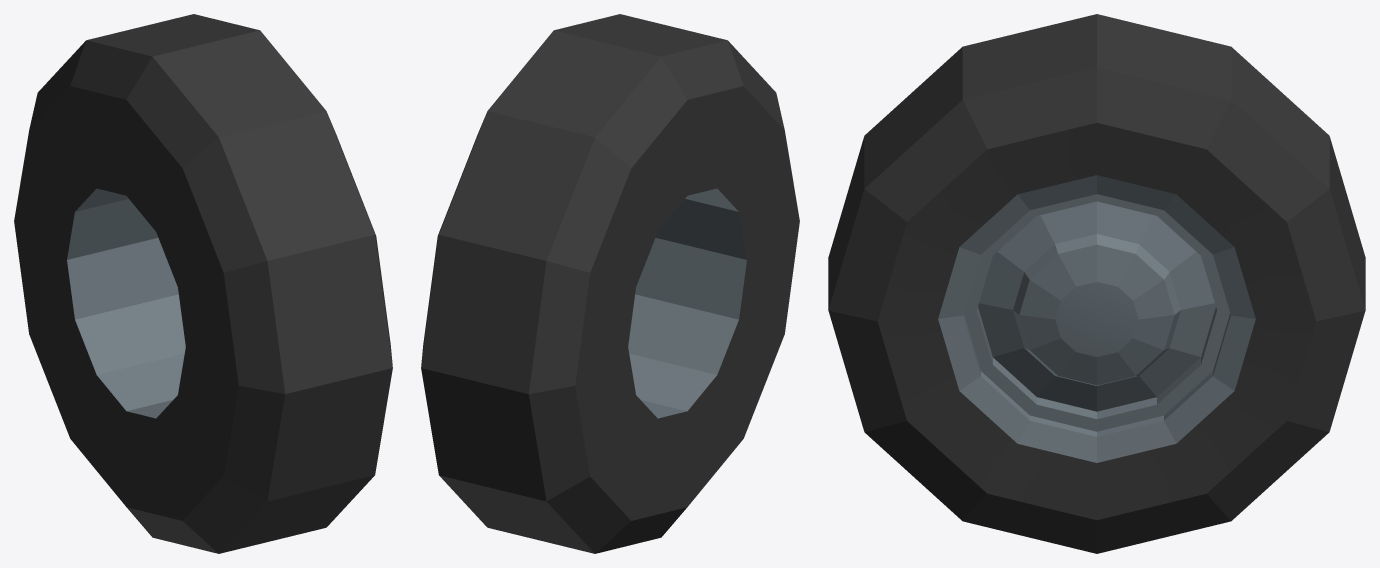
File: SM_Veh_Food_Trailer_01_Wheel_l1.obj
3 renders of one model, left to right at view 1: azimuth 30°, elevation 25°; view 2: azimuth 150°, elevation 25°; view 3: azimuth 270°, elevation 25°, orthographic.
Parts seen in each view (by area): view 1: SM_Veh_Food_Trailer_01_Wheel_l1_0; view 2: SM_Veh_Food_Trailer_01_Wheel_l1_0; view 3: SM_Veh_Food_Trailer_01_Wheel_l1_0.
Part boxes in pixels (left/top/right/bottom): SM_Veh_Food_Trailer_01_Wheel_l1_0: left=14, top=14, right=392, bottom=553; SM_Veh_Food_Trailer_01_Wheel_l1_0: left=421, top=14, right=799, bottom=553; SM_Veh_Food_Trailer_01_Wheel_l1_0: left=828, top=14, right=1365, bottom=553.
Bounding box in the file's own units: 0.2702 × 0.7963 × 0.7963.
1 material, 1 textured.
